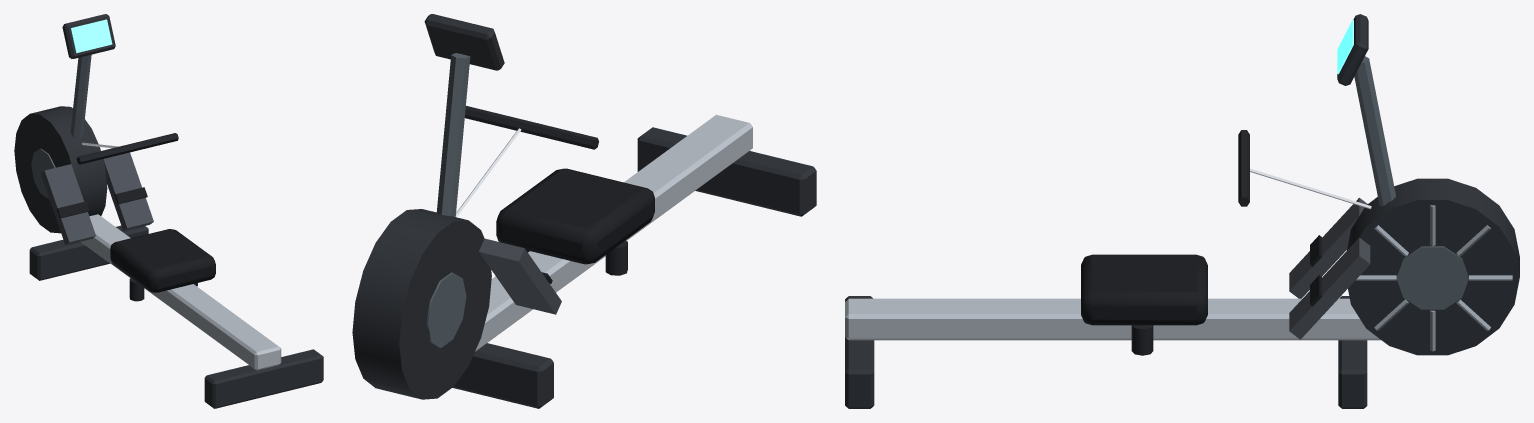
File: rowing_machine.glb
3 views of the same model, side by side, from view 1: azimuth 30°, elevation 25°; view 2: azimuth 150°, elevation 25°; view 3: azimuth 270°, elevation 25° (orthographic). The views are drawn at different scales.
Parts seen in each view (by area): view 1: rowing_machine; view 2: rowing_machine; view 3: rowing_machine.
Boxes of the visible parts, bbox=[...] form: rowing_machine: bbox=[14, 14, 323, 408]; rowing_machine: bbox=[352, 14, 816, 408]; rowing_machine: bbox=[845, 14, 1519, 408].
Bounding box in the file's own units: 0.5 × 1.05 × 1.86.
